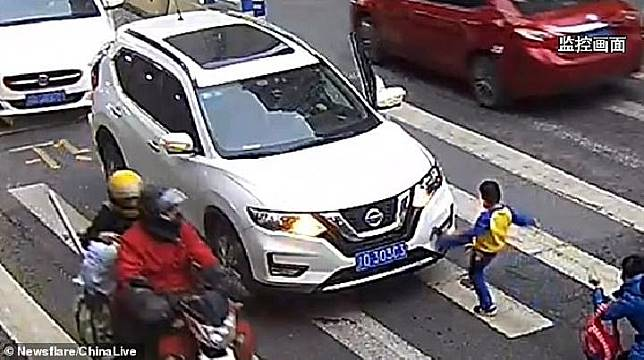car: (89, 11, 477, 283), (349, 1, 642, 111), (2, 1, 125, 127)
motorbike: (74, 175, 265, 360)
